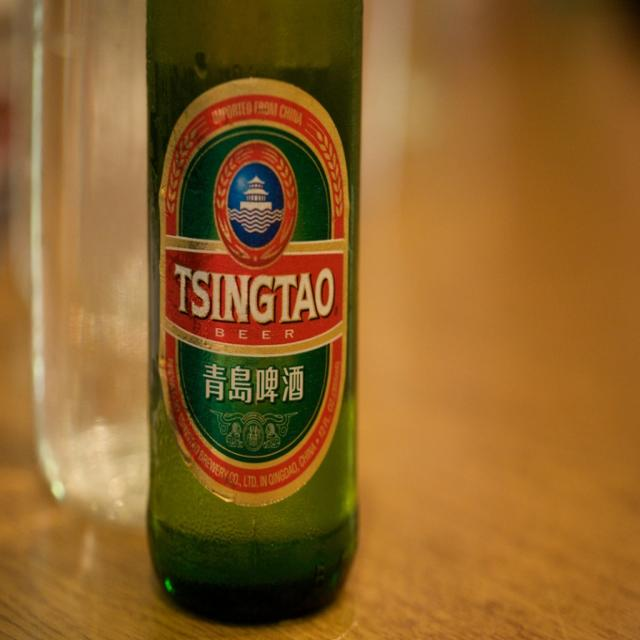tsingtao: (159, 76, 351, 510)
